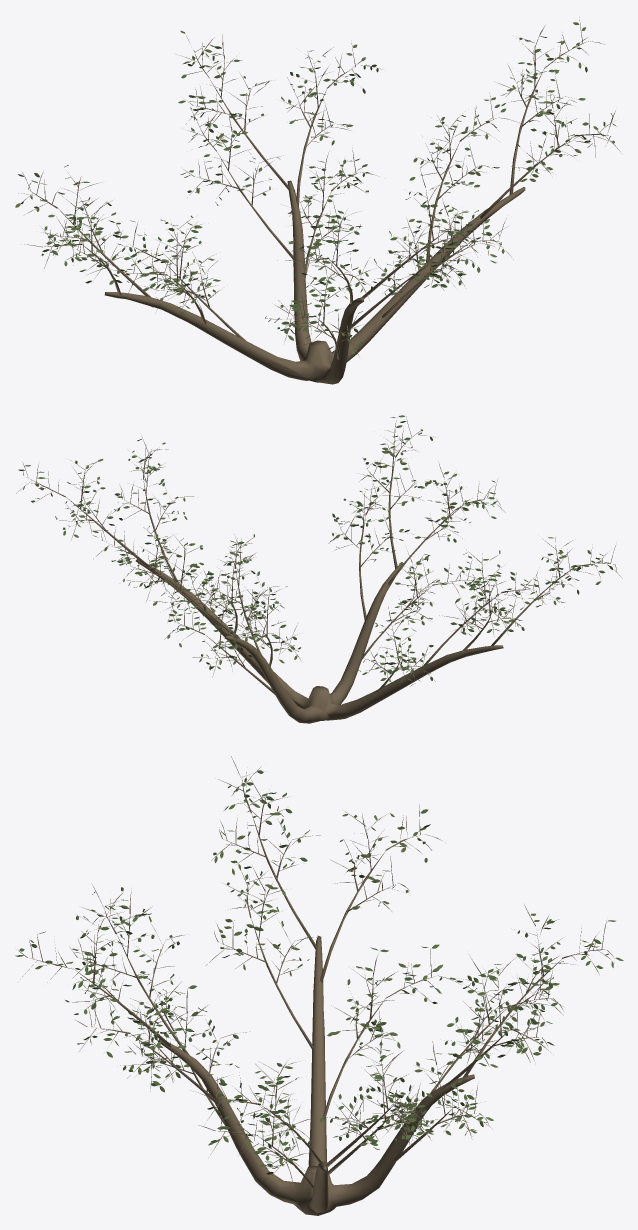
File: Lentisque_2_Niveau0.fbx
3 renders of one model, top to bottom at view 1: azimuth 30°, elevation 25°; view 2: azimuth 150°, elevation 25°; view 3: azimuth 270°, elevation 25°, orthographic. The views are drawn at different scales.
Visible parts, largest first — view 1: Lentisque_2_Niveau0; view 2: Lentisque_2_Niveau0; view 3: Lentisque_2_Niveau0.
Boxes of the visible parts, x1,y1,x2,y2 form: Lentisque_2_Niveau0: [15, 17, 620, 384]; Lentisque_2_Niveau0: [16, 415, 622, 723]; Lentisque_2_Niveau0: [15, 756, 623, 1215].
Size of the model in its own units: 302 by 122 by 221.
